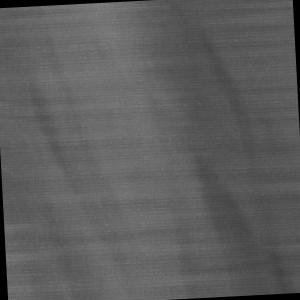Wrinkle: (171, 8, 300, 299), (6, 62, 151, 300)
